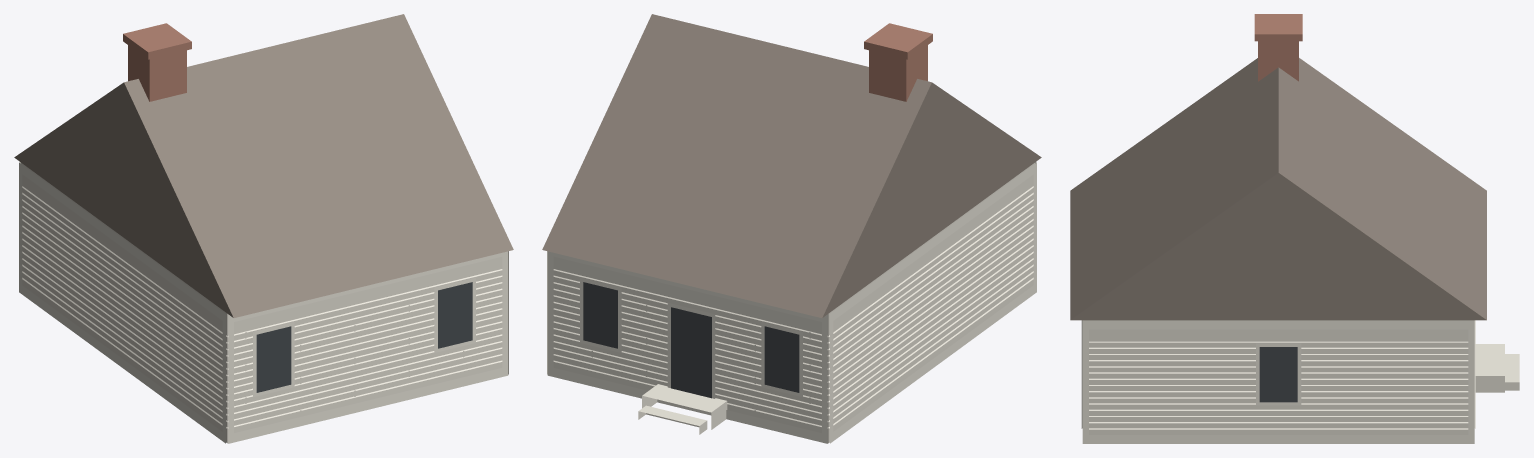
Rendered from recon_1835_south_d4_009__inferred_1835.glb.
3 renders of one model, left to right at view 1: azimuth 30°, elevation 25°; view 2: azimuth 150°, elevation 25°; view 3: azimuth 270°, elevation 25°, orthographic. The views are drawn at different scales.
Visible parts, largest first — view 1: recon_1835_south_d4_009__inferred_1835; view 2: recon_1835_south_d4_009__inferred_1835; view 3: recon_1835_south_d4_009__inferred_1835.
Part boxes in pixels (left/top/right/bottom): recon_1835_south_d4_009__inferred_1835: left=14, top=14, right=513, bottom=443; recon_1835_south_d4_009__inferred_1835: left=542, top=14, right=1041, bottom=443; recon_1835_south_d4_009__inferred_1835: left=1070, top=14, right=1519, bottom=443.
Size of the model in its own units: 6.36 by 6.89 by 9.2.
